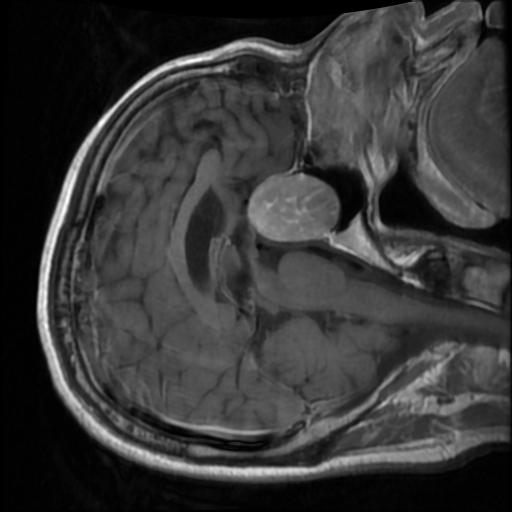pituitary tumour: (245, 172, 338, 243)
